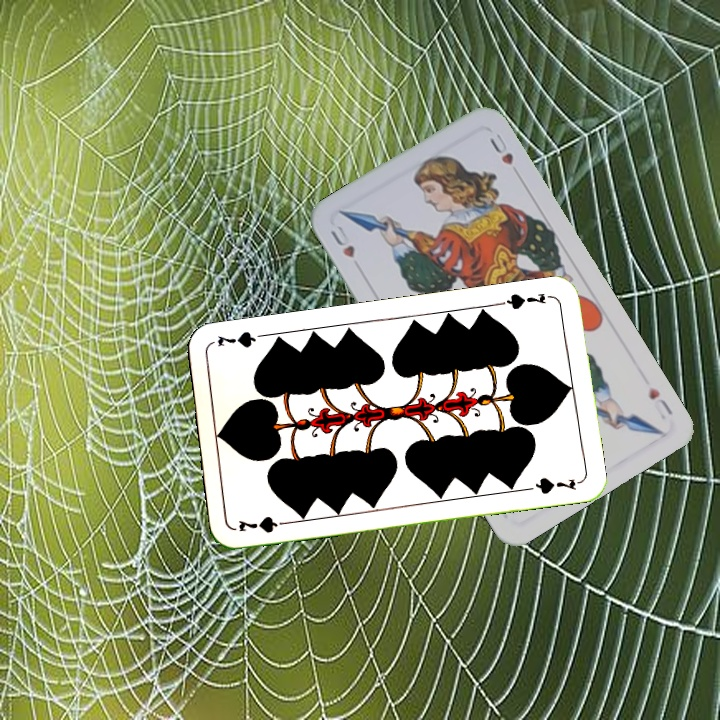G7: (234, 512, 294, 536), (497, 288, 549, 312)
HU: (326, 221, 358, 261), (644, 383, 675, 423)
